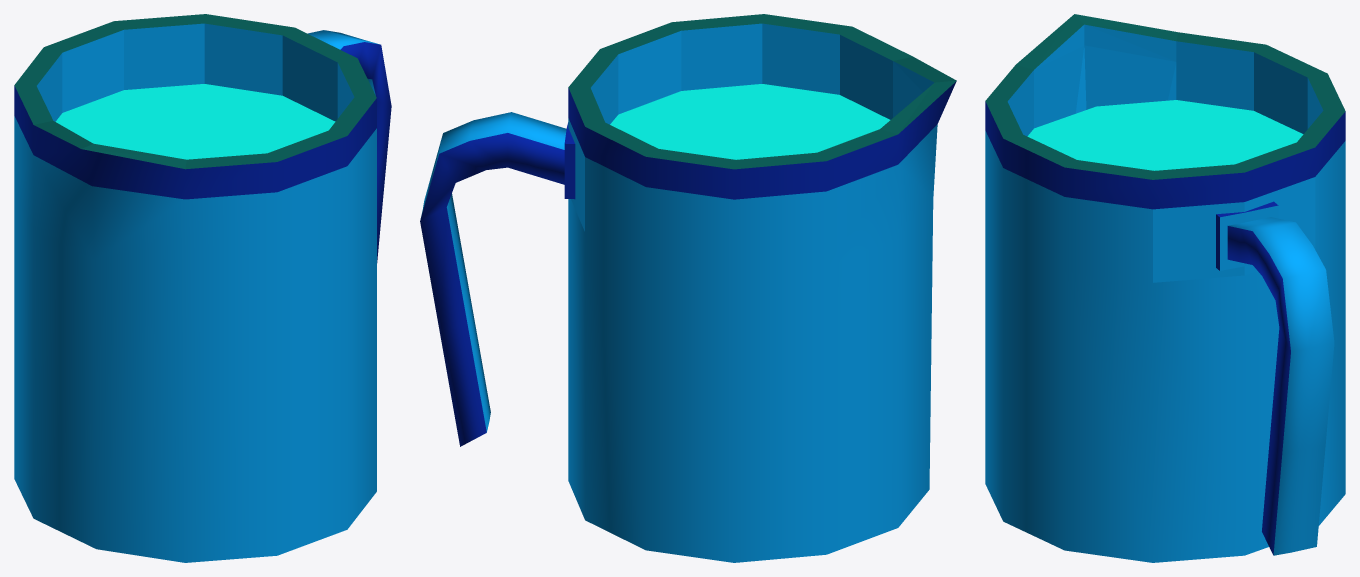
Rendered from Water_Pitcher.fbx.
The picture shows the model from 3 angles, left to right: view 1: azimuth 30°, elevation 25°; view 2: azimuth 150°, elevation 25°; view 3: azimuth 270°, elevation 25°; orthographic projection. The views are drawn at different scales.
Visible parts, largest first — view 1: Water_Pitcher; view 2: Water_Pitcher; view 3: Water_Pitcher.
Boxes of the visible parts, bbox=[...] form: Water_Pitcher: bbox=[14, 14, 391, 562]; Water_Pitcher: bbox=[420, 14, 956, 562]; Water_Pitcher: bbox=[985, 14, 1345, 562].
Bounding box in the file's own units: 25.39 × 23.57 × 19.31.
